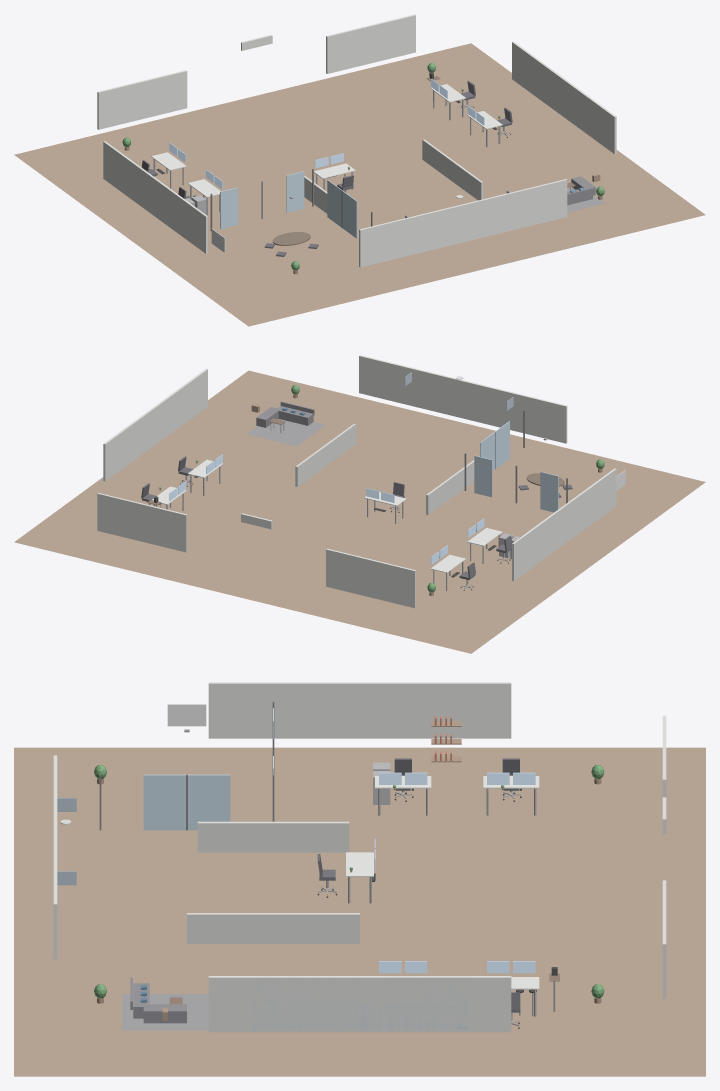
Rendered from office_v12.glb.
The picture shows the model from 3 angles, top to bottom: view 1: azimuth 30°, elevation 25°; view 2: azimuth 150°, elevation 25°; view 3: azimuth 270°, elevation 25°; orthographic projection. The views are drawn at different scales.
Parts seen in each view (by area): view 1: Floor, Cube, Cube.005, Cube.004, Cube.001, Cube.002, Partition_2, Cube.009, Cube.007, Cube.008, Partition_1; view 2: Floor, Cube, Cube.005, Cube.004, Cube.002, Cube.001, Partition_2, Plane, Partition_1, Cube.009, Cube.008, Cube.007; view 3: Floor, Cube.005, Cube.004, Partition_2, Partition_1, Cube.009, Cube.006, Plane, Cube, Cube.019, Cube.083, Cube.045.
Part boxes in pixels (left/top/right/bottom): Floor: left=14, top=43, right=705, bottom=326; Cube: left=359, top=179, right=567, bottom=267; Cube.005: left=512, top=41, right=616, bottom=154; Cube.004: left=103, top=141, right=207, bottom=253; Cube.001: left=97, top=70, right=187, bottom=129; Cube.002: left=326, top=14, right=415, bottom=73; Partition_2: left=422, top=139, right=483, bottom=200; Cube.009: left=327, top=180, right=357, bottom=238; Cube.007: left=220, top=187, right=238, bottom=228; Cube.008: left=286, top=171, right=304, bottom=212; Partition_1: left=304, top=175, right=327, bottom=213; Floor: left=14, top=370, right=705, bottom=653; Cube: left=359, top=355, right=567, bottom=443; Cube.005: left=103, top=368, right=207, bottom=481; Cube.004: left=512, top=468, right=616, bottom=580; Cube.002: left=97, top=493, right=187, bottom=552; Cube.001: left=326, top=548, right=415, bottom=608; Partition_2: left=295, top=423, right=356, bottom=486; Plane: left=247, top=419, right=325, bottom=446; Partition_1: left=426, top=460, right=474, bottom=514; Cube.009: left=480, top=421, right=509, bottom=470; Cube.008: left=474, top=455, right=492, bottom=497; Cube.007: left=540, top=471, right=558, bottom=512; Floor: left=14, top=747, right=705, bottom=1076; Cube.005: left=208, top=976, right=511, bottom=1032; Cube.004: left=208, top=682, right=511, bottom=738; Partition_2: left=187, top=913, right=359, bottom=943; Partition_1: left=197, top=821, right=349, bottom=852; Cube.009: left=143, top=774, right=230, bottom=830; Cube.006: left=252, top=981, right=467, bottom=1029; Plane: left=122, top=994, right=208, bottom=1030; Cube: left=53, top=755, right=57, bottom=959; Cube.019: left=167, top=704, right=206, bottom=726; Cube.083: left=143, top=1004, right=186, bottom=1023; Cube.045: left=346, top=852, right=373, bottom=876.
Size of the model in its own units: 18 by 2.65 by 16.
